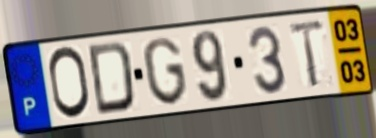3: (245, 23, 290, 97)
9: (191, 27, 232, 105)
D: (86, 39, 137, 118)
G: (140, 35, 190, 108)
O: (46, 44, 93, 122)
T: (287, 16, 327, 91)
